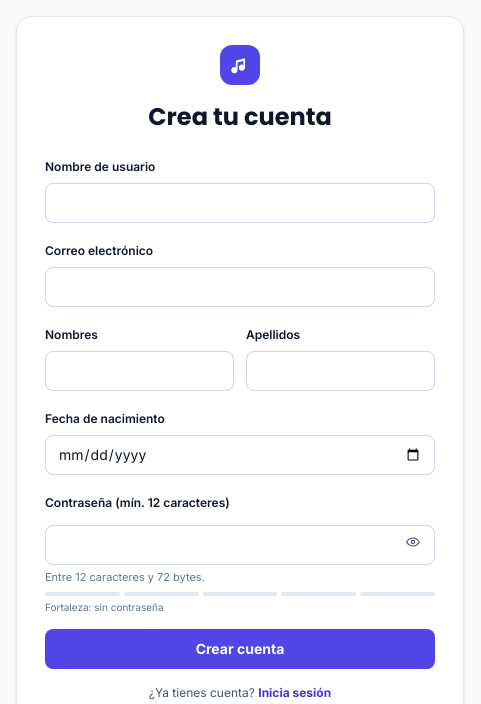
Test case: TEST-FE-AUTH: login, registro y guardas › TEST-FE-AUTH-005 registra con éxito y redirige a login
In the field labelled "Nombres": [140, 371] box top-left (45, 351), bottom-right (234, 391), type "Andrea"
In the field labelled "Apellidos": [340, 371] box top-left (246, 351), bottom-right (435, 391), type "Ruiz"
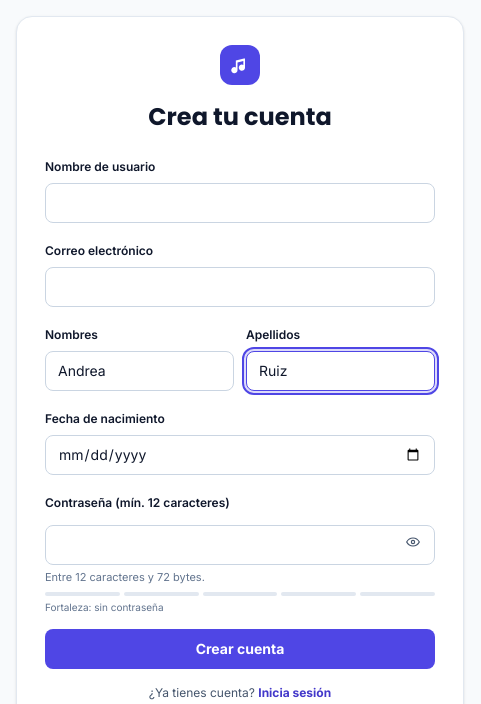
In the field labelled "Nombre de usuario": [240, 203] box top-left (45, 183), bottom-right (435, 223), type "andrea"
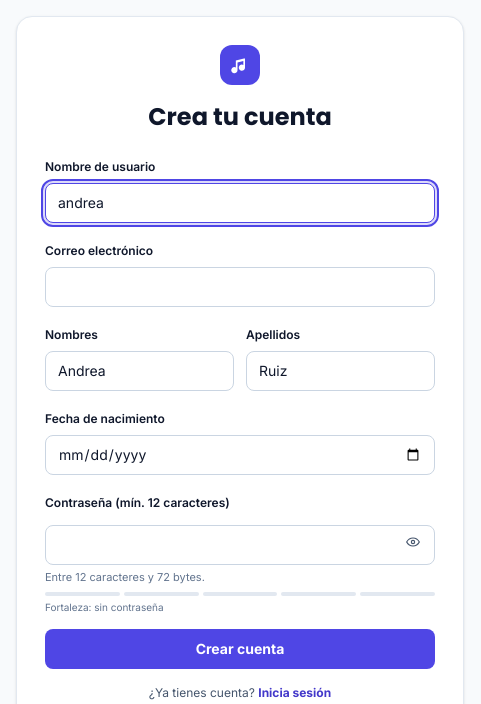
In the field labelled "Correo electrónico": [240, 287] box top-left (45, 267), bottom-right (435, 307), type "andrea@pulsepass.test"
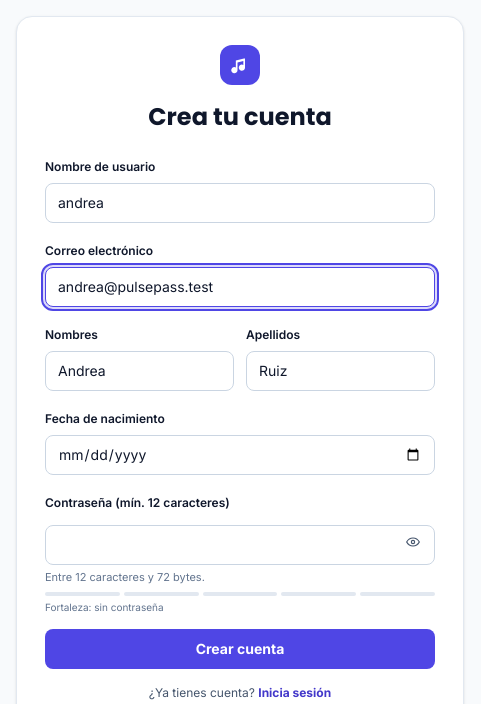
In the date field labelled "Fecha de nacimiento": [240, 455] box top-left (45, 435), bottom-right (435, 475), type "1998-04-12"
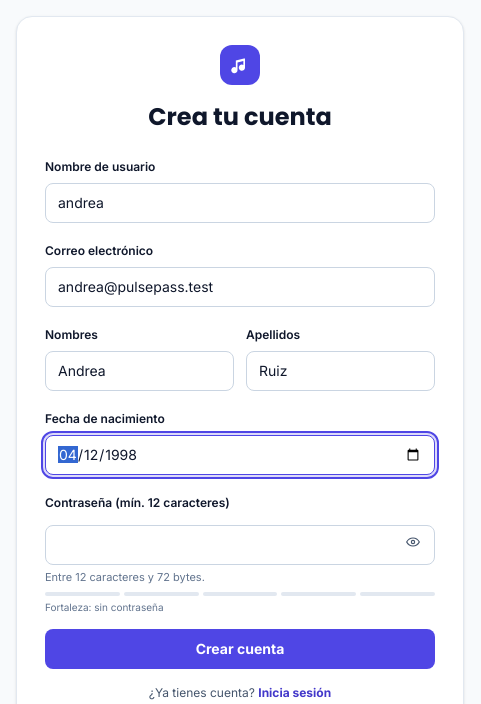
In the password field labelled "Contraseña (mín. 12 caracteres)": [240, 545] box top-left (45, 525), bottom-right (435, 565), type "Password-segura-123"
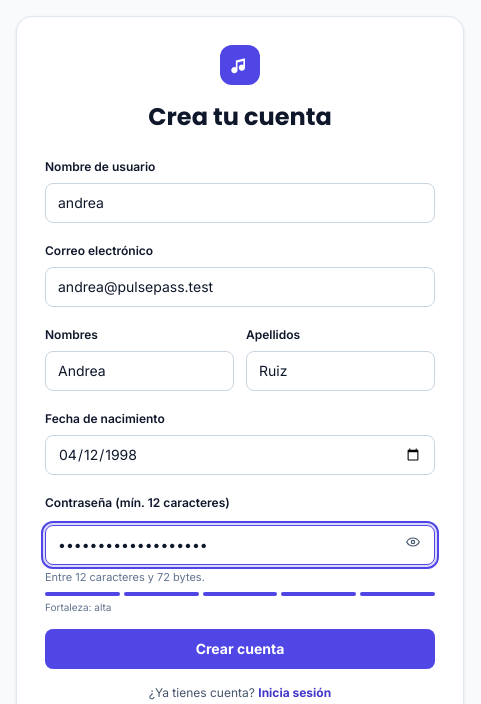
Click the button "Crear cuenta": [240, 648] box top-left (45, 628), bottom-right (435, 668)
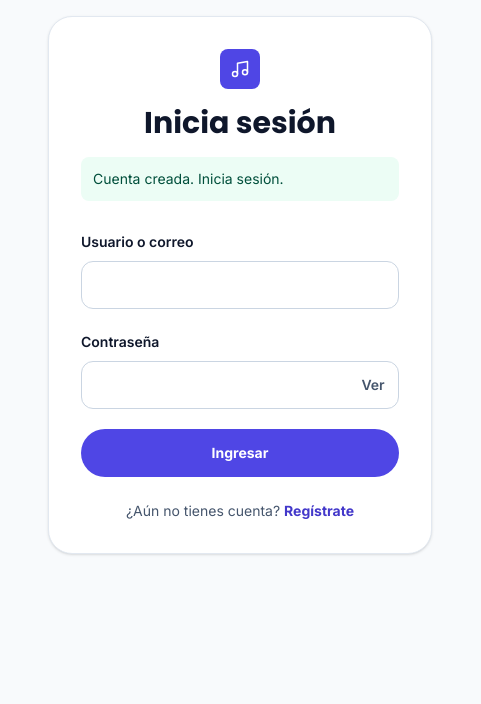
Now the heading "Inicia sesión" is shown, box top-left (144, 102), bottom-right (336, 144)
Now the text "Cuenta creada. Inicia sesión." is shown, box top-left (81, 157), bottom-right (399, 201)
